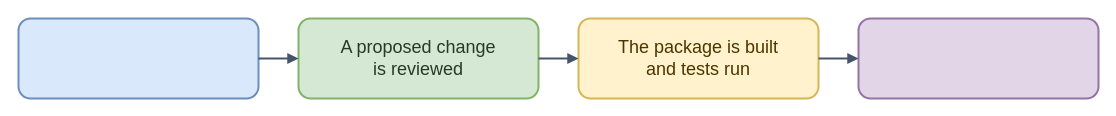
The diagram is 1116 pixels wide and 116 high, and some of its shapes have lost their labels. The shapes that lost their labels are listed below. From the top down, each one's centre as x and y in pixels, then its label:
At [138,58]: "Package recipe and patches".
At [978,58]: "The target stream applies its release policy".
